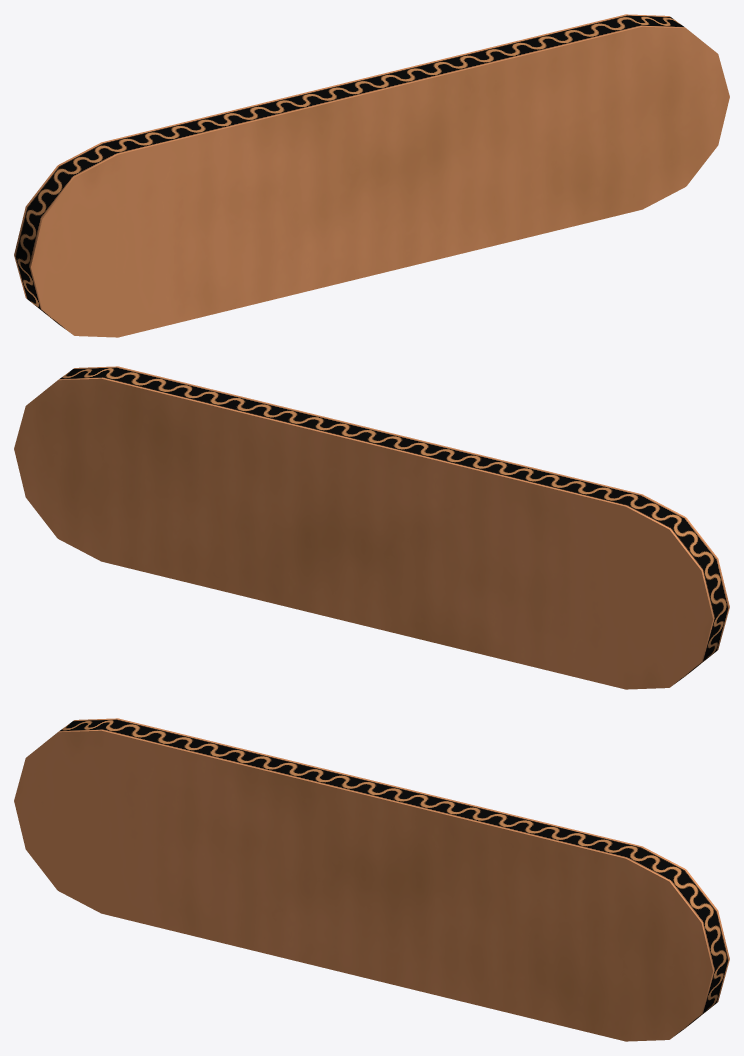
The model's file is M_CardboardPanels_2x1_WindowFlap.fbx.
3 views of the same model, one above another, from view 1: azimuth 30°, elevation 25°; view 2: azimuth 150°, elevation 25°; view 3: azimuth 330°, elevation 25° (orthographic).
Parts seen in each view (by area): view 1: Panels, Edges; view 2: Panels, Edges; view 3: Panels, Edges.
Boxes of the visible parts, left/top/right/bottom form: Panels: left=31, top=26, right=729, bottom=337; Edges: left=14, top=14, right=685, bottom=334; Panels: left=14, top=378, right=712, bottom=689; Edges: left=58, top=366, right=729, bottom=686; Panels: left=14, top=730, right=712, bottom=1041; Edges: left=58, top=718, right=729, bottom=1038.
Bounding box in the file's own units: 6 × 1.5 × 0.25.
Materials: 1 (1 with a texture image).
